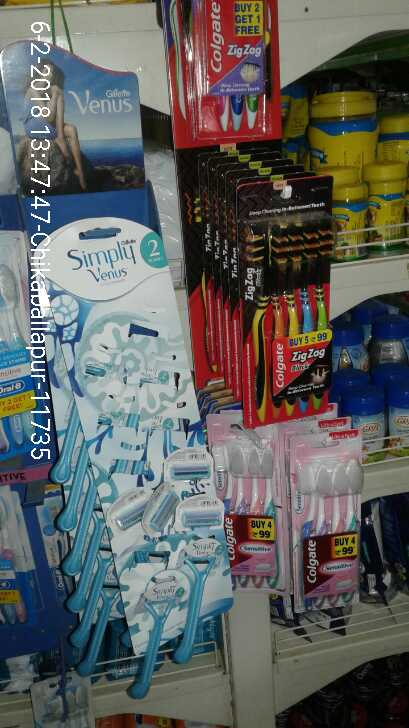reject: (157, 116, 214, 200)
